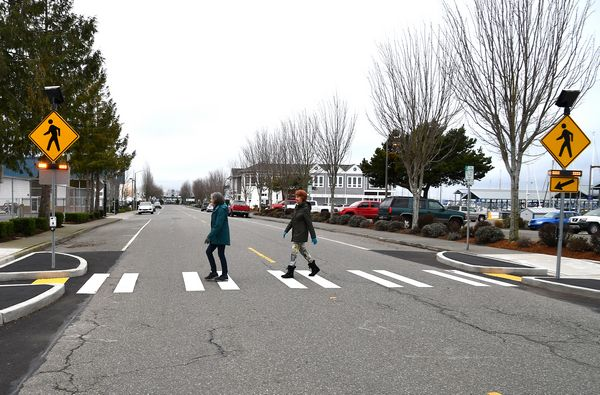Crosswalk: (70, 249, 531, 303)
